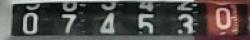digits: (214, 6, 232, 28), (177, 13, 196, 32), (22, 12, 37, 34), (137, 13, 154, 32), (60, 13, 76, 32), (99, 12, 114, 32)
